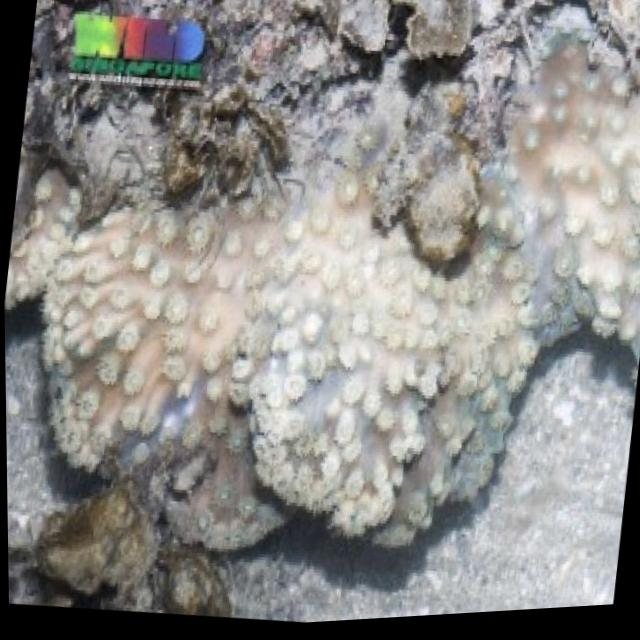Bleached Coral: (1, 82, 640, 592)
